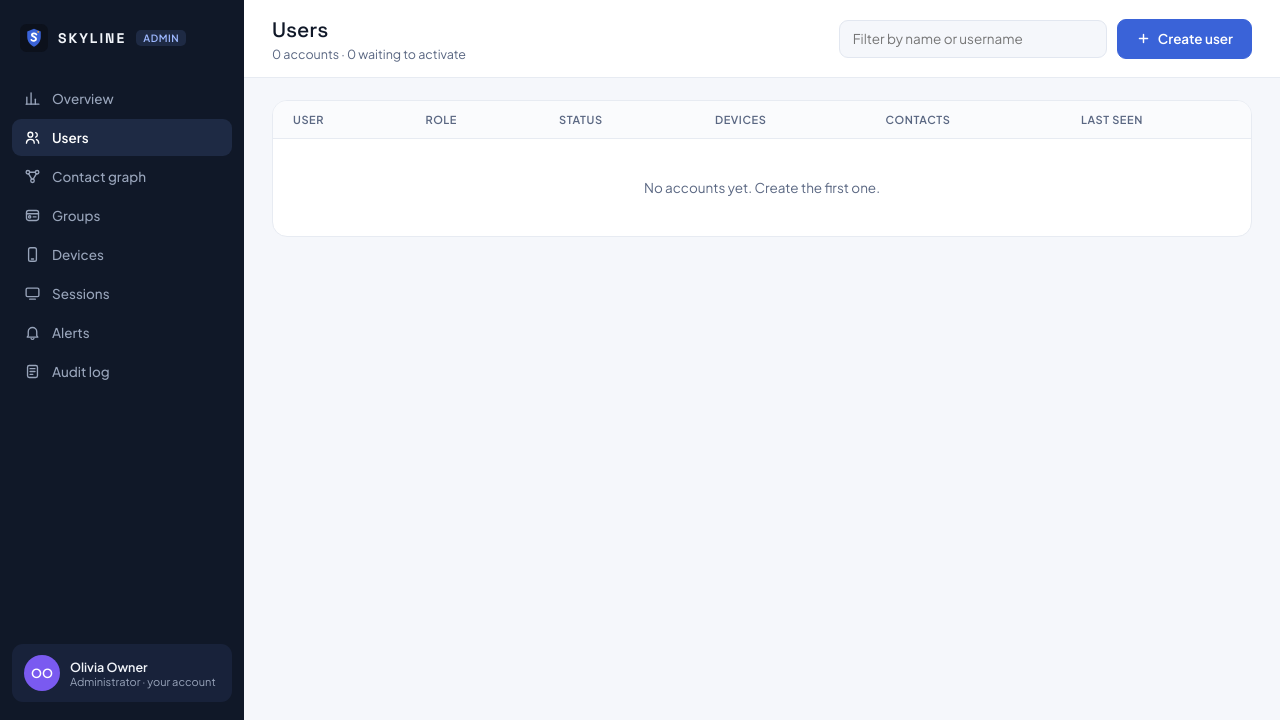
Test: creating a user › only the owner is offered the Admin role
Click the button "Create user" at point(1184, 38), box [1117, 18, 1252, 58]
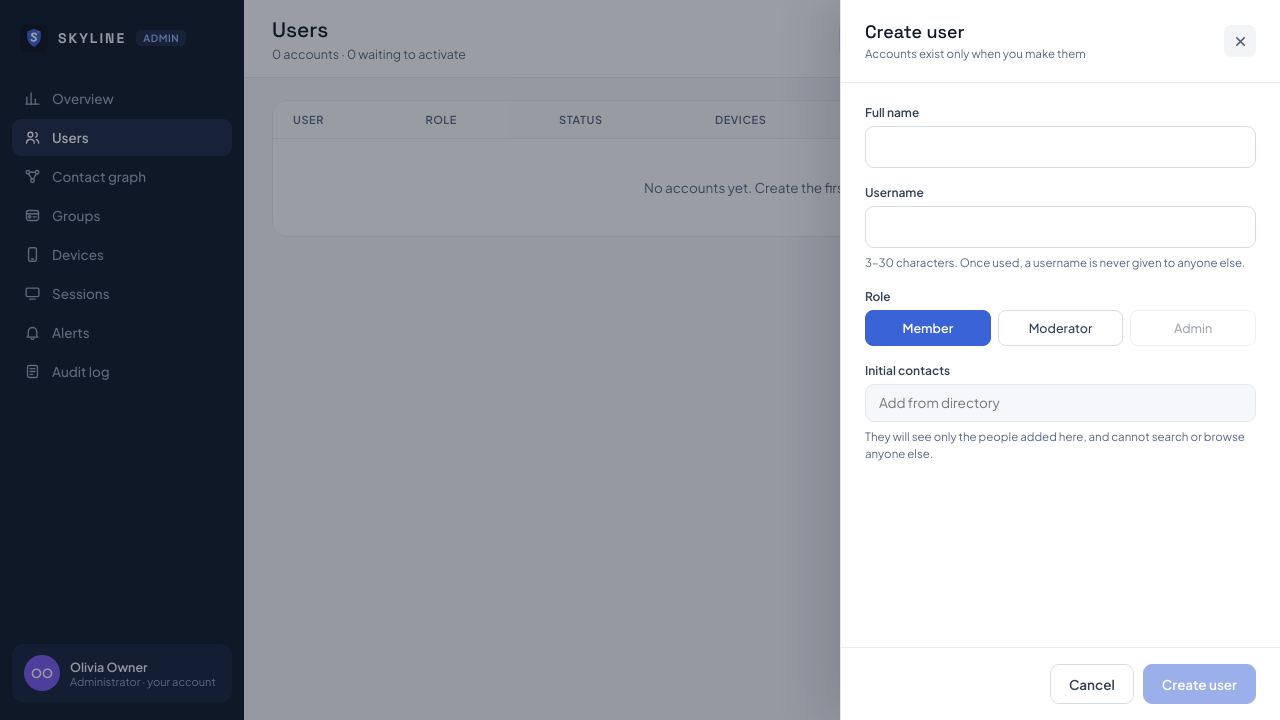
Check: the button "Admin" is disabled, box [1130, 310, 1256, 346]
Check: the button "Moderator" is enabled, box [998, 310, 1123, 346]
